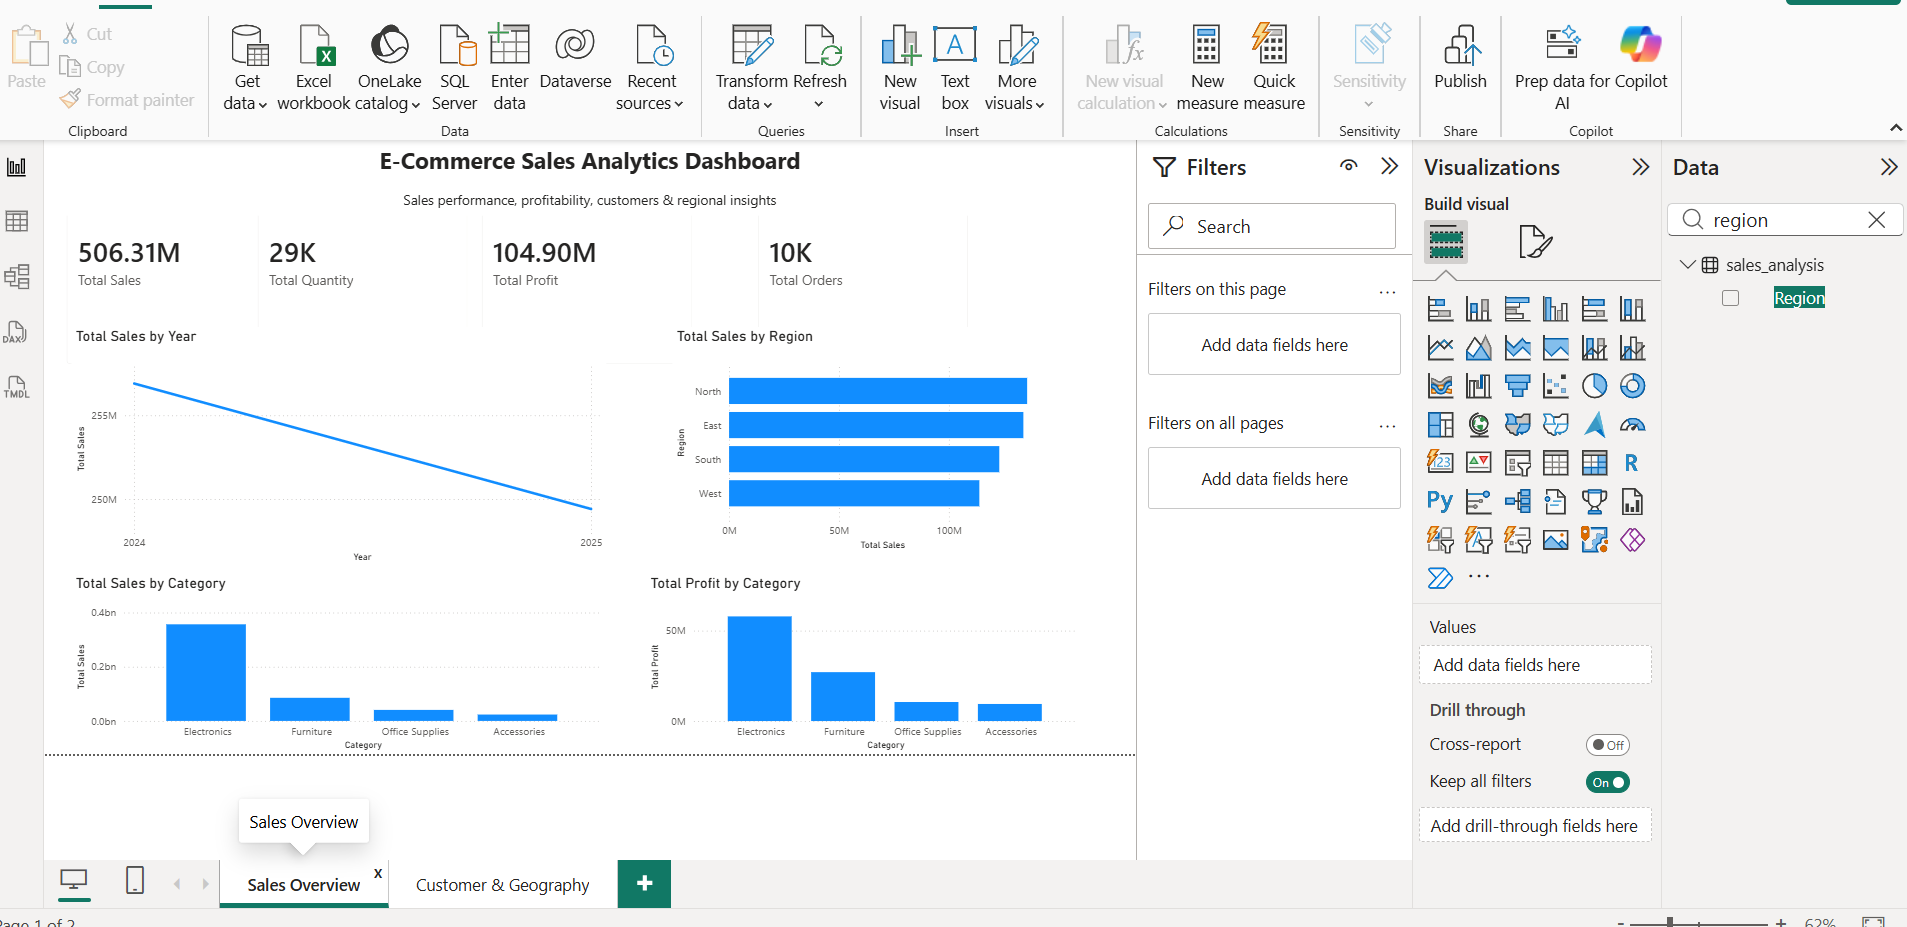

What the dashboard file says about the page in this screenshot:
{"tool":"powerbi","page":{"name":"Sales Overview","canvas":[1280,720],"ordinal":0},"visuals":[{"type":"cardVisual","fields":{"Data":["sales_analysis.Total Sales"]},"box":[10,0,280,280],"z":0},{"type":"cardVisual","fields":{"Data":["sales_analysis.Total Quantity"]},"box":[233.7,0,280,280],"z":2},{"type":"cardVisual","fields":{"Data":["sales_analysis.Total Profit"]},"box":[496.4,0,280,280],"z":3},{"type":"cardVisual","fields":{"Data":["sales_analysis.Total Orders"]},"box":[820.4,0,280,280],"z":4},{"type":"lineChart","fields":{"Category":["sales_analysis.Year_Month.Variation.Date Hierarchy.Year","sales_analysis.Year_Month.Variation.Date Hierarchy.Quarter","sales_analysis.Year_Month.Variation.Date Hierarchy.Month","sales_analysis.Year_Month.Variation.Date Hierarchy.Day"],"Y":["sales_analysis.Total Sales"]},"box":[32.2,219.2,627,280.4],"z":5},{"type":"barChart","fields":{"Category":["sales_analysis.Region"],"Y":["sales_analysis.Total Sales"]},"box":[736.6,219.2,448.1,265.9],"z":6},{"type":"clusteredColumnChart","fields":{"Category":["sales_analysis.Category"],"Y":["sales_analysis.Total Sales"]},"box":[32,509,627,211],"z":7},{"type":"clusteredColumnChart","fields":{"Category":["sales_analysis.Category"],"Y":["sales_analysis.Total Profit"]},"box":[705.9,509.3,510.9,211.1],"z":8},{"type":"textbox","box":[0,0,1279.7,88.6],"z":9},{"type":"cardVisual","fields":{"Data":["Sum(sales_analysis.Profit_Margin)"]},"box":[979.9,59.6,299.8,159.6],"z":10}]}

Visuals, with their boxes on the page's 1280x720 design canvas (x1, y1, x2, y2). These are canvas units, not pixel positions in the 1907x927 screenshot, which may show the page scaled, cropped or inside an application window:
cardVisual - sales_analysis.Total Sales: [x1=10, y1=0, x2=290, y2=280]
cardVisual - sales_analysis.Total Quantity: [x1=234, y1=0, x2=514, y2=280]
cardVisual - sales_analysis.Total Profit: [x1=496, y1=0, x2=776, y2=280]
cardVisual - sales_analysis.Total Orders: [x1=820, y1=0, x2=1100, y2=280]
lineChart - sales_analysis.Year_Month.Variation.Date Hierarchy.Year x sales_analysis.Year_Month.Variation.Date Hierarchy.Quarter: [x1=32, y1=219, x2=659, y2=500]
barChart - sales_analysis.Region x sales_analysis.Total Sales: [x1=737, y1=219, x2=1185, y2=485]
clusteredColumnChart - sales_analysis.Category x sales_analysis.Total Sales: [x1=32, y1=509, x2=659, y2=720]
clusteredColumnChart - sales_analysis.Category x sales_analysis.Total Profit: [x1=706, y1=509, x2=1217, y2=720]
textbox: [x1=0, y1=0, x2=1280, y2=89]
cardVisual - Sum(sales_analysis.Profit_Margin): [x1=980, y1=60, x2=1280, y2=219]
